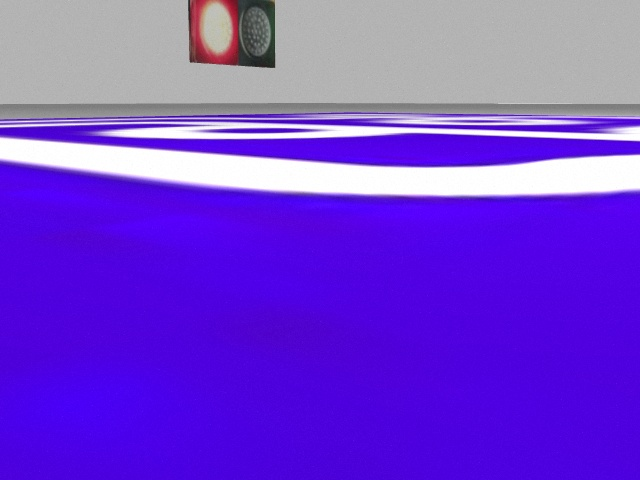red: (188, 1, 236, 64)
